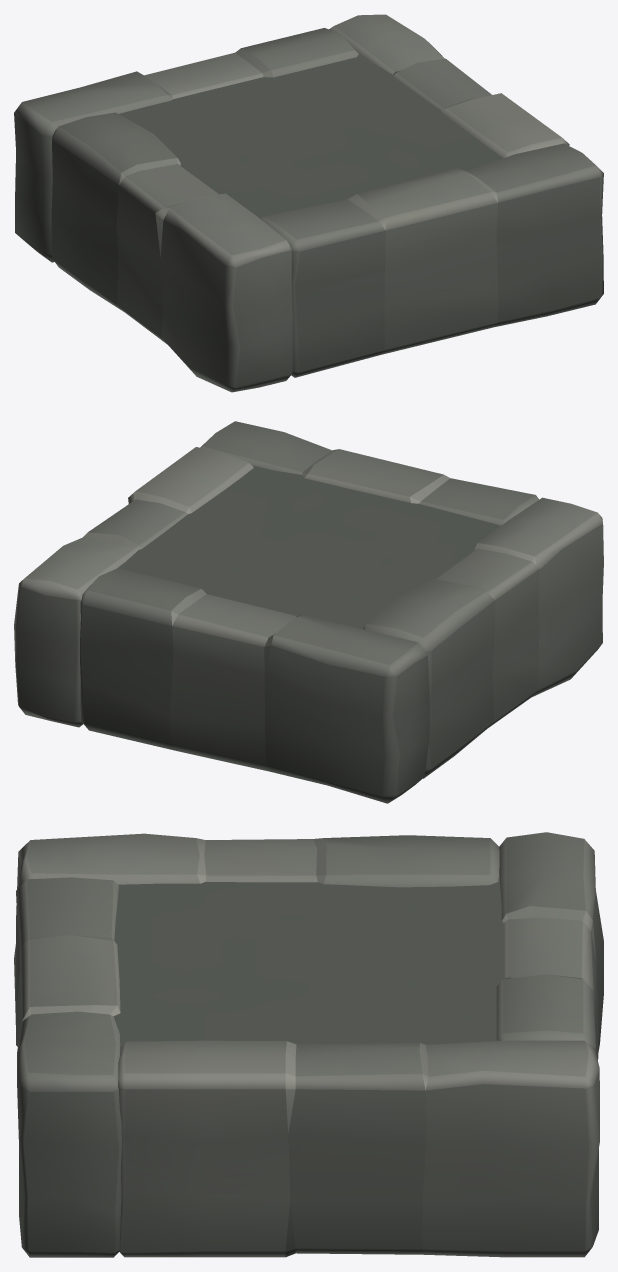
The model's file is human_foundation_2x3.fbx.
3 views of the same model, one above another, from view 1: azimuth 30°, elevation 25°; view 2: azimuth 150°, elevation 25°; view 3: azimuth 270°, elevation 25° (orthographic). The views are drawn at different scales.
Parts seen in each view (by area): view 1: human_foundation_2x3; view 2: human_foundation_2x3; view 3: human_foundation_2x3.
Part boxes in pixels (x1,y1,x2,y2): human_foundation_2x3: [14, 14, 603, 392]; human_foundation_2x3: [14, 421, 603, 803]; human_foundation_2x3: [14, 832, 603, 1257].
Size of the model in its own units: 311 by 116 by 312.
